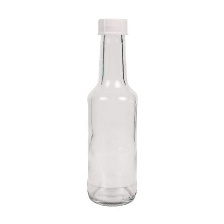bottle: (80, 14, 142, 213)
